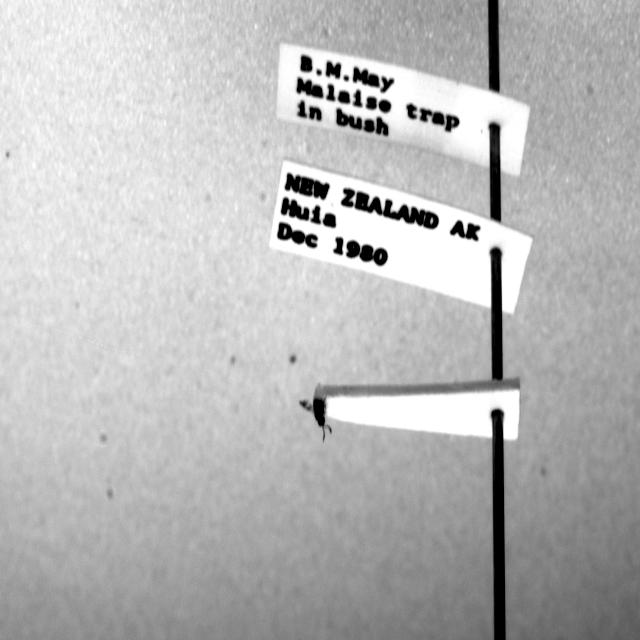typed_label: (270, 159, 532, 313), (276, 43, 530, 176)
